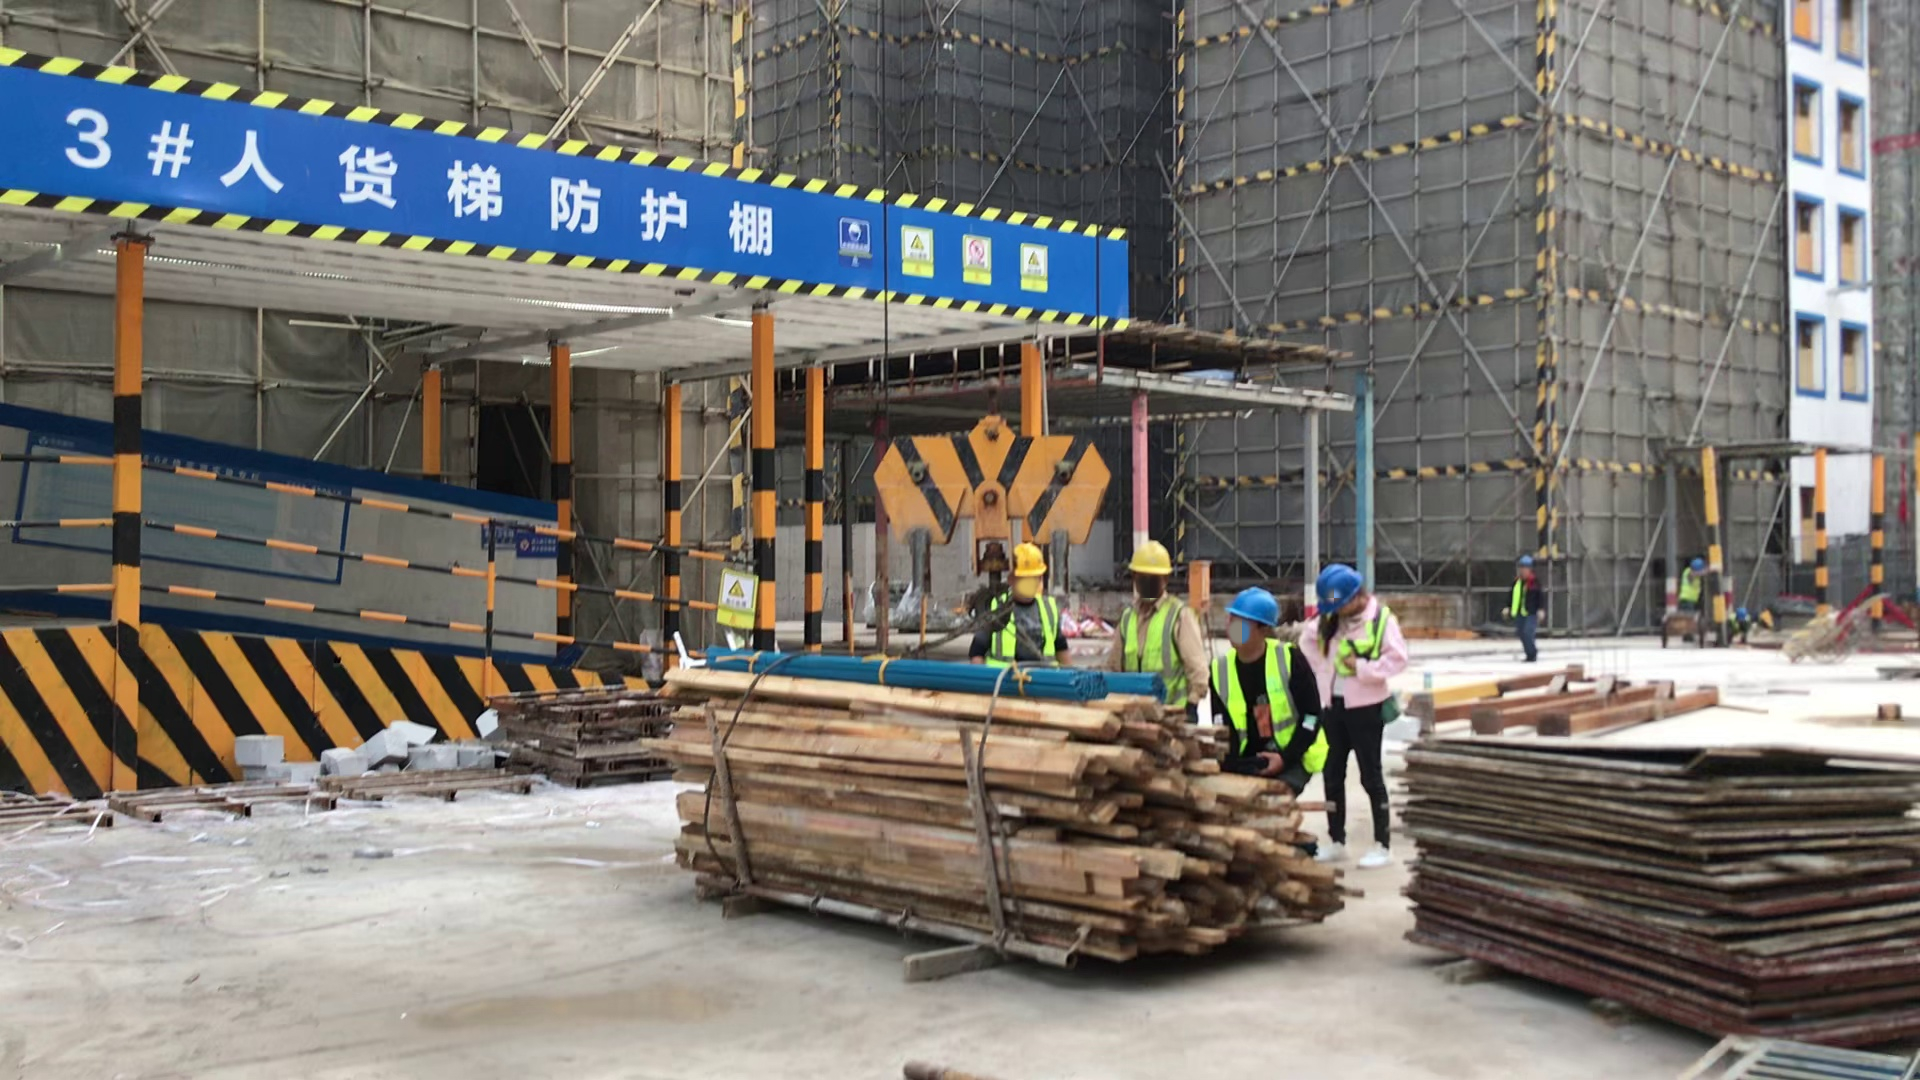helmet: (1312, 564, 1364, 611), (1228, 588, 1279, 625), (1128, 543, 1176, 579), (1008, 545, 1049, 578), (1734, 604, 1748, 622), (1692, 559, 1706, 573), (1516, 555, 1532, 566)
person: (1312, 567, 1401, 859), (1213, 591, 1327, 797), (1105, 541, 1202, 701), (967, 543, 1071, 663), (1511, 557, 1543, 661), (1678, 557, 1704, 608), (1727, 607, 1754, 641)
vest: (1211, 643, 1311, 765), (1323, 596, 1398, 704), (1117, 601, 1186, 694), (972, 590, 1062, 658), (1680, 568, 1701, 604)
